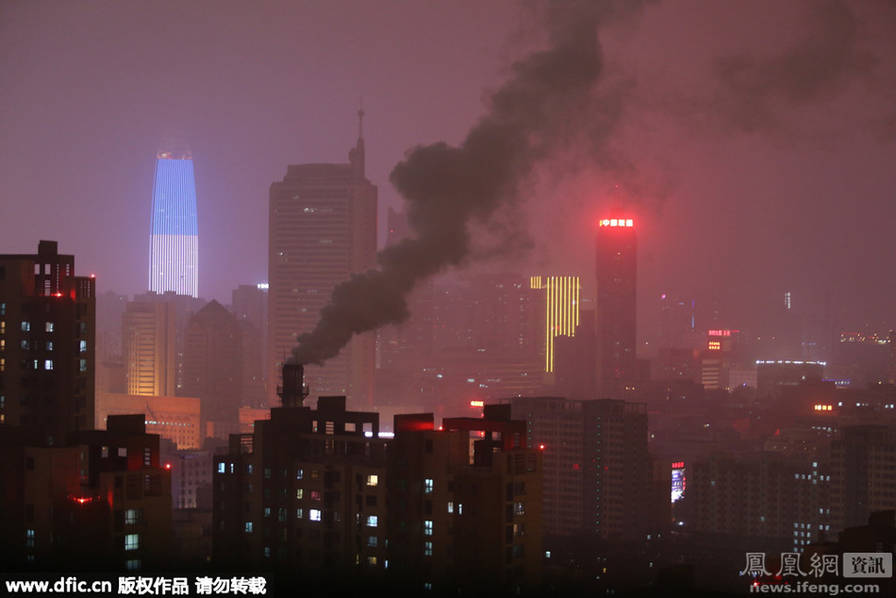dust: (265, 214, 435, 382)
